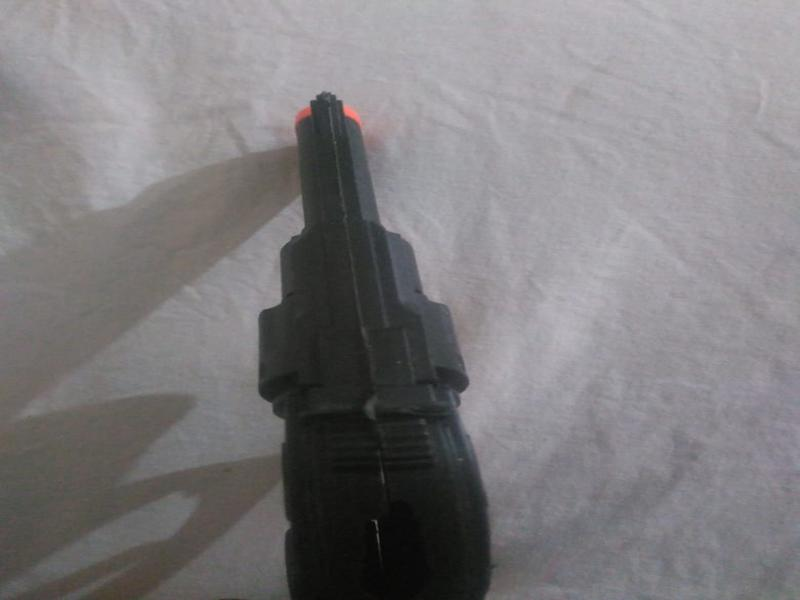gun: (134, 67, 603, 593)
